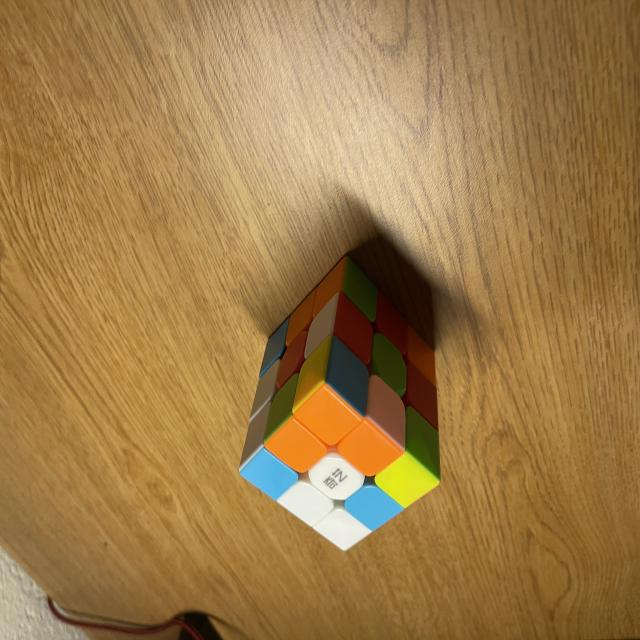Rubiks Cube: (240, 256, 442, 553)
